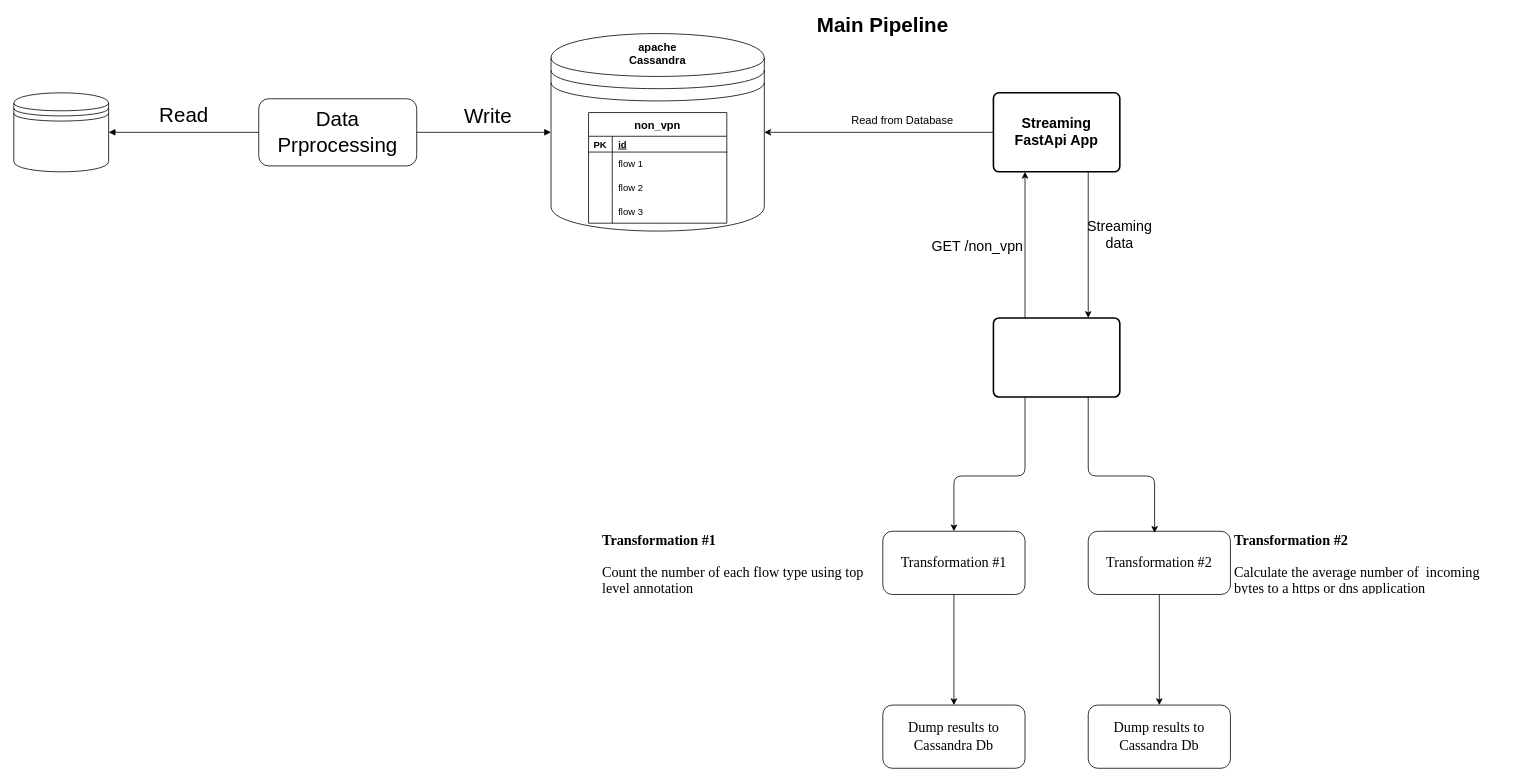
The diagram is 1529 pixels wide and 782 high, and some of its shapes have lost their labels. The shapes that lost their labels are listed below. From the top down, each one's centre as x and y in pixels, then its label:
At (61,132): "JSON File".
At (1056,357): "Flink App".
